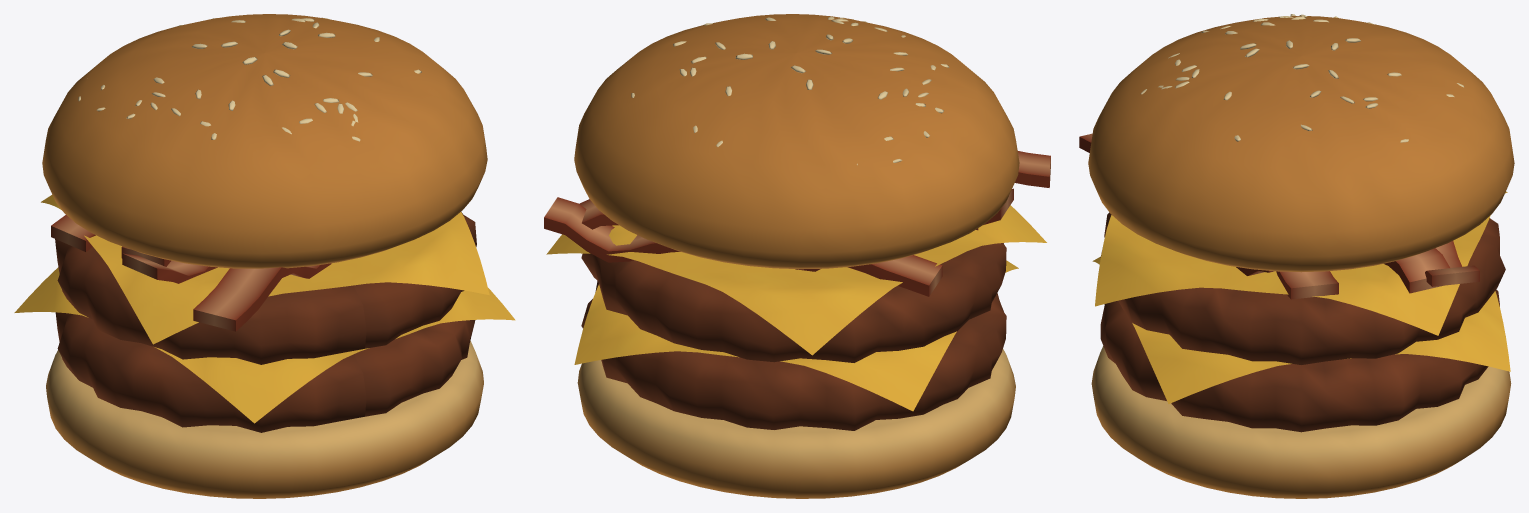
The model's file is xbacon_duplo.glb.
The picture shows the model from 3 angles, left to right: view 1: azimuth 30°, elevation 25°; view 2: azimuth 150°, elevation 25°; view 3: azimuth 270°, elevation 25°; orthographic projection.
Visible parts, largest first — view 1: xbacon_duplo; view 2: xbacon_duplo; view 3: xbacon_duplo.
Part boxes in pixels (<box>): xbacon_duplo: <box>14,14,515,498</box>; xbacon_duplo: <box>544,14,1050,498</box>; xbacon_duplo: <box>1079,14,1514,498</box>.
Bounding box in the file's own units: 0.126 × 0.1157 × 0.1235.
